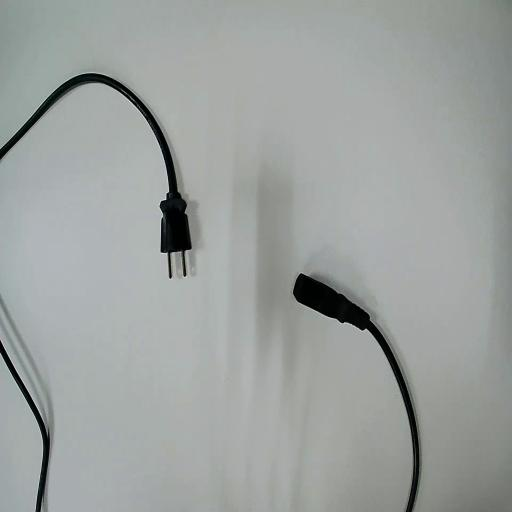wire: (0, 74, 190, 253), (294, 274, 419, 511)
